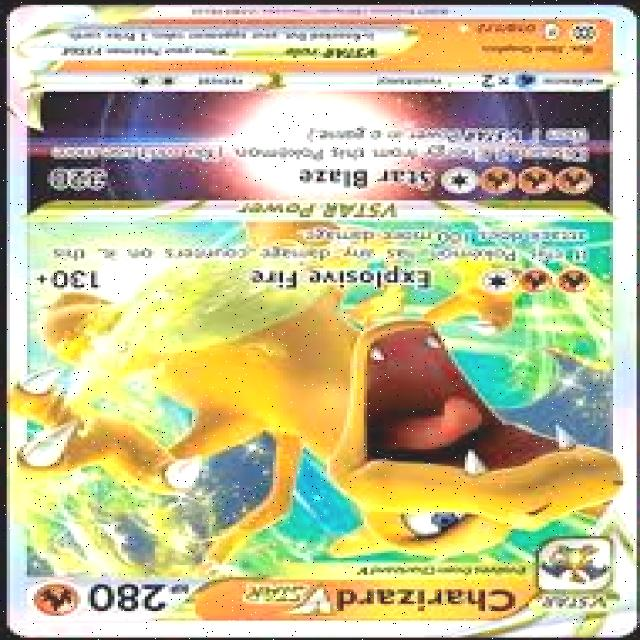charizard: (25, 217, 618, 556)
